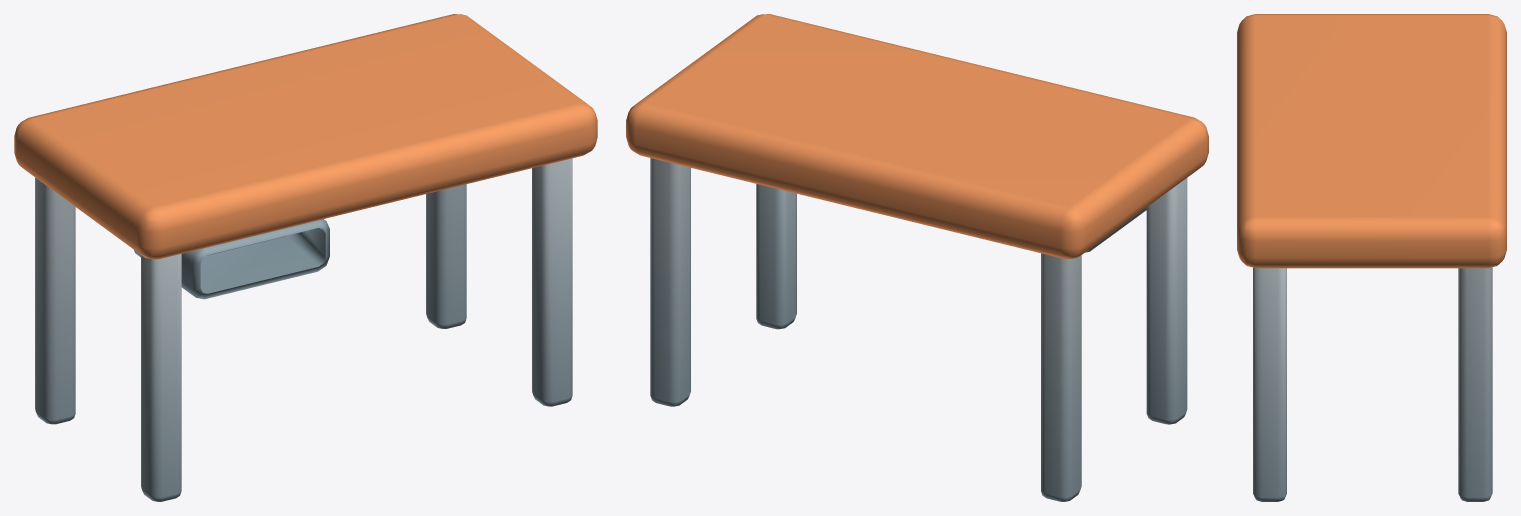
The model's file is Work_Table_01.glb.
3 views of the same model, side by side, from view 1: azimuth 30°, elevation 25°; view 2: azimuth 150°, elevation 25°; view 3: azimuth 270°, elevation 25° (orthographic). The views are drawn at different scales.
Visible parts, largest first — view 1: Work_Table_01; view 2: Work_Table_01; view 3: Work_Table_01.
Boxes of the visible parts, box(x1,y1,x2,y2) form: Work_Table_01: box(14, 14, 597, 501); Work_Table_01: box(626, 14, 1208, 501); Work_Table_01: box(1237, 14, 1506, 501).
Bounding box in the file's own units: 1.25 × 0.78 × 0.6571.
1 material, 1 textured.
